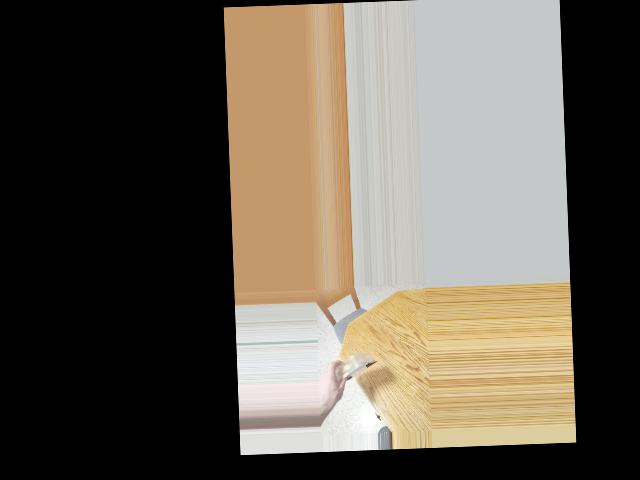cheese: (332, 351, 376, 380)
